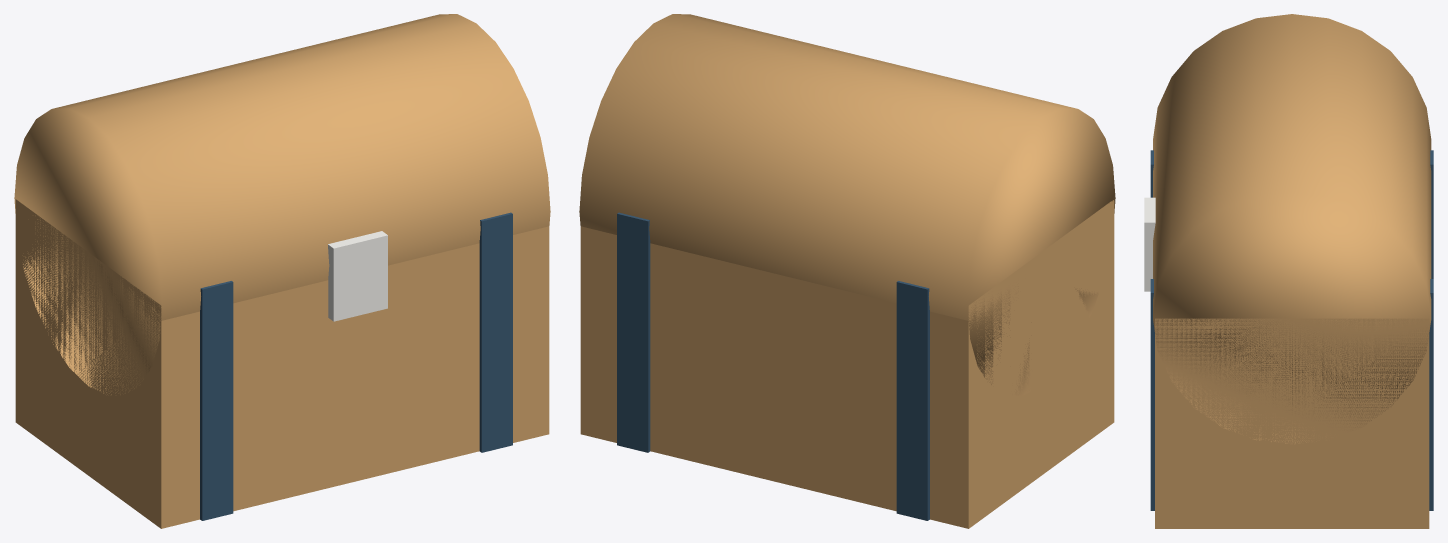
Rendered from chest_bronze.glb.
3 renders of one model, left to right at view 1: azimuth 30°, elevation 25°; view 2: azimuth 150°, elevation 25°; view 3: azimuth 270°, elevation 25°, orthographic. The views are drawn at different scales.
Size of the model in its own units: 1 by 0.88 by 0.685.
